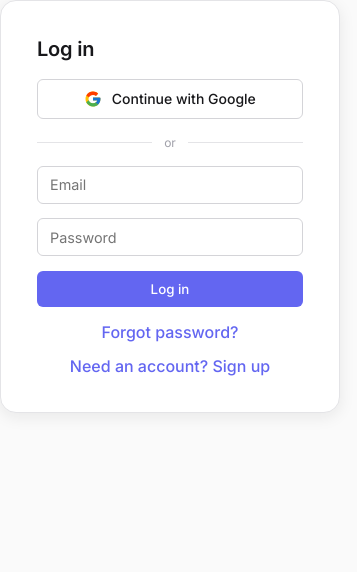
Test: LoginForm › offers to resend the verification email when login is blocked by it
This screenshot has width=357, height=572.
Type "unverified@example.com" into the field with placeholder "Email" at (170, 185), box [37, 166, 303, 204]
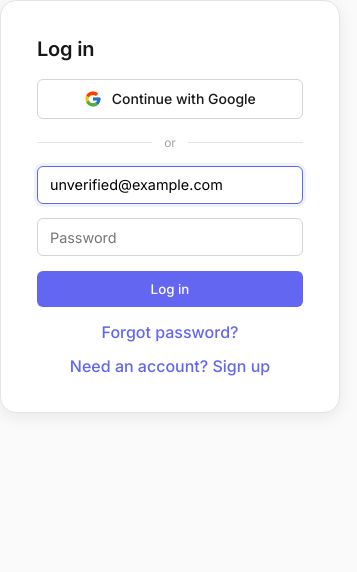
Type "secret123" into the password field with placeholder "Password" at (170, 237), box [37, 218, 303, 256]
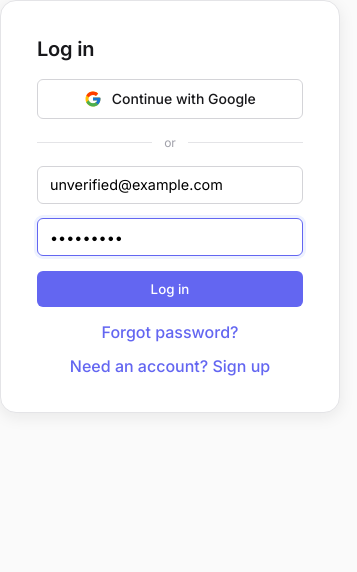
Click the button "Log in" at (170, 289), box [37, 271, 303, 308]
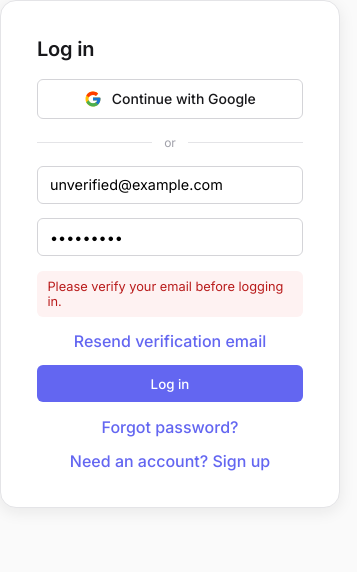
Click the button "Resend verification email" at (170, 341), box [37, 331, 303, 351]
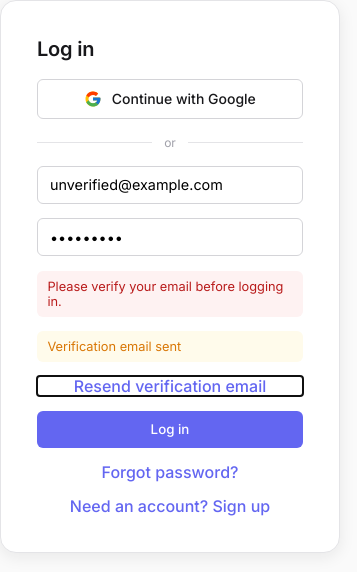
Now the text "Verification email sent" is shown, box [37, 331, 303, 362]
